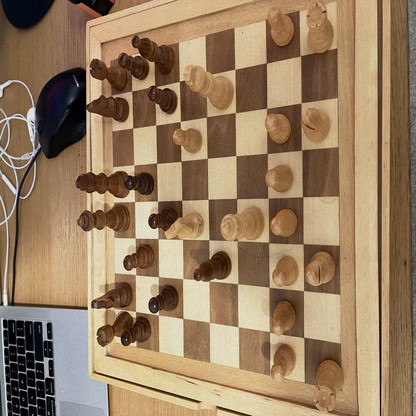bishop_white: (305, 251, 335, 286), (302, 109, 331, 142)
king_black: (75, 172, 130, 197)
king_white: (184, 65, 234, 110)
knight_black: (91, 282, 133, 309), (194, 252, 231, 282), (86, 97, 128, 122)
knight_white: (165, 212, 202, 240)
pawn_black: (122, 317, 151, 346), (123, 244, 154, 271), (149, 286, 179, 313), (118, 53, 149, 79), (148, 87, 178, 113), (125, 173, 154, 194), (149, 209, 178, 229)
pawn_white: (268, 8, 294, 45), (271, 300, 296, 334), (271, 346, 295, 381), (266, 165, 293, 193), (265, 113, 291, 142), (173, 129, 203, 154), (271, 209, 298, 236), (272, 257, 298, 285)
queen_black: (78, 206, 130, 232)
queen_white: (220, 206, 264, 241)
rock_black: (96, 311, 133, 347), (90, 59, 128, 90)
rock_white: (314, 360, 344, 412), (306, 1, 333, 54)
